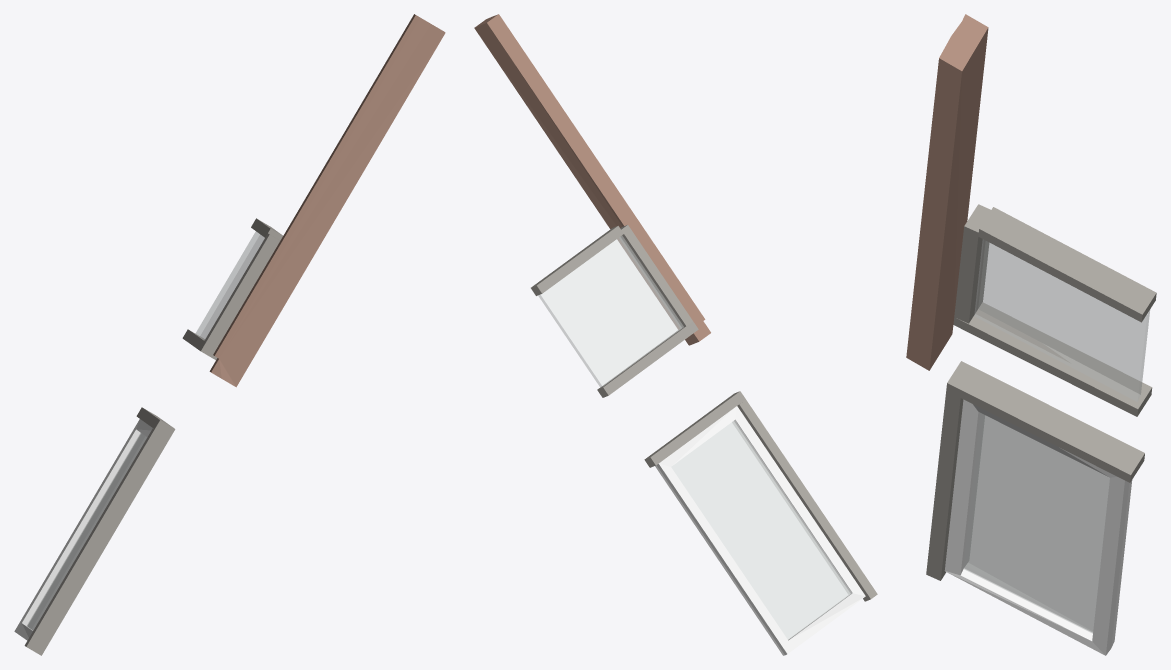
3 renders of one model, left to right at view 1: azimuth 30°, elevation 25°; view 2: azimuth 150°, elevation 25°; view 3: azimuth 270°, elevation 25°, orthographic. The views are drawn at different scales.
Visible parts, largest first — view 1: mesh; view 2: mesh; view 3: mesh.
Boxes of the visible parts, bbox=[...] form: mesh: bbox=[14, 14, 445, 655]; mesh: bbox=[474, 14, 877, 655]; mesh: bbox=[906, 14, 1156, 655].
Size of the model in its own units: 3.07 by 3.94 by 0.9767.
